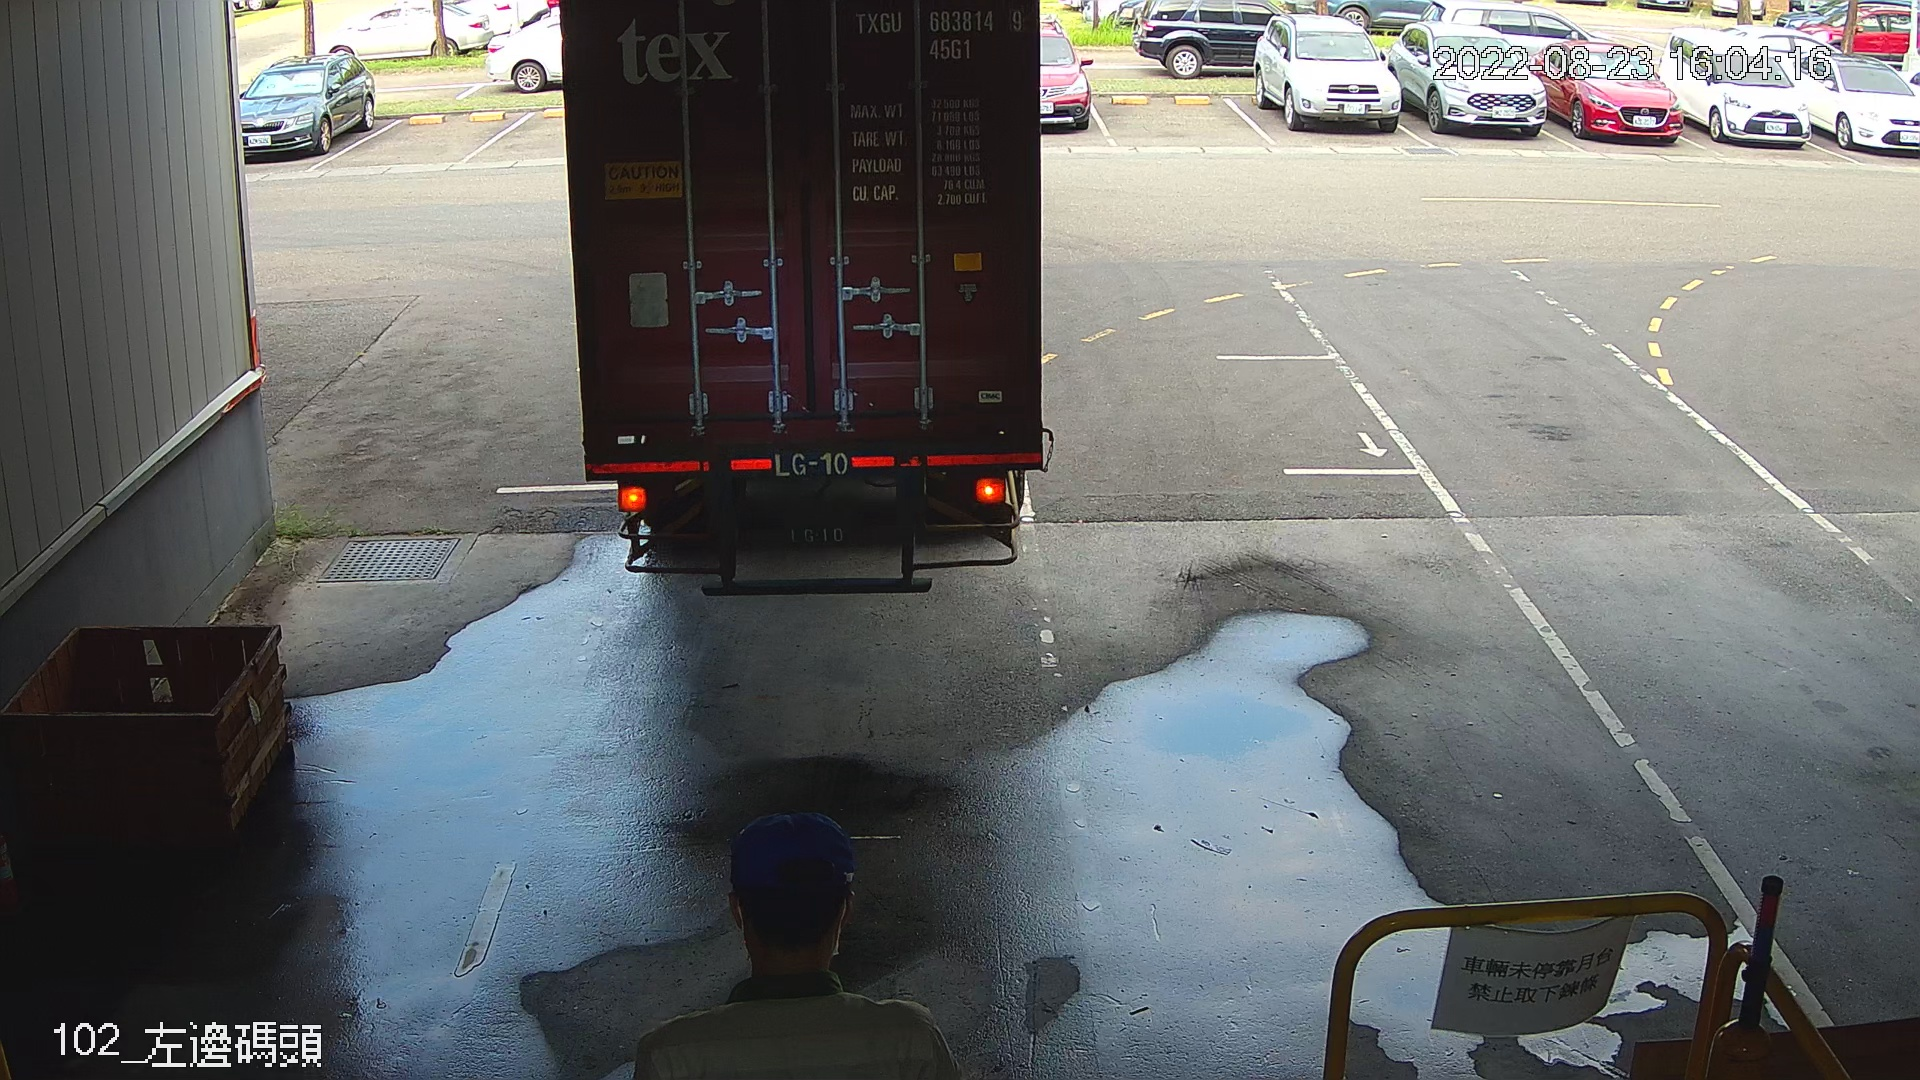container: (848, 3, 1033, 67)
